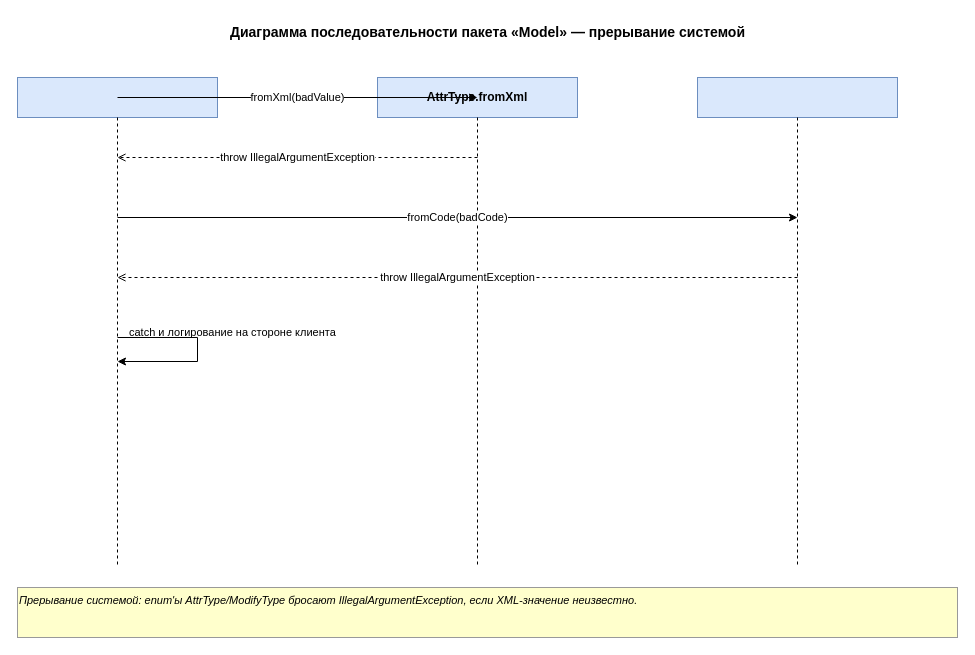
This 975x655 diagram has some shape labels left out. Here are the shapes that lost their labels. From the top down, the centre of each, then its label:
At point 117,97: "Клиент".
At point 797,97: "ModifyType.fromCode".
